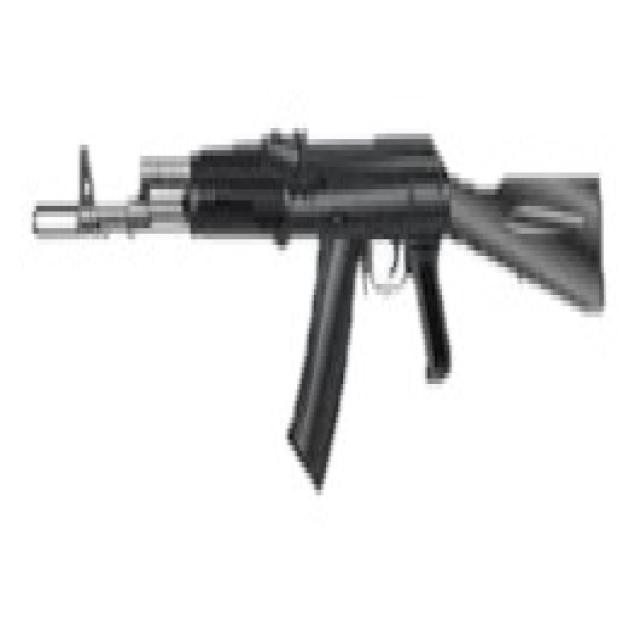rifle: (28, 105, 612, 499)
